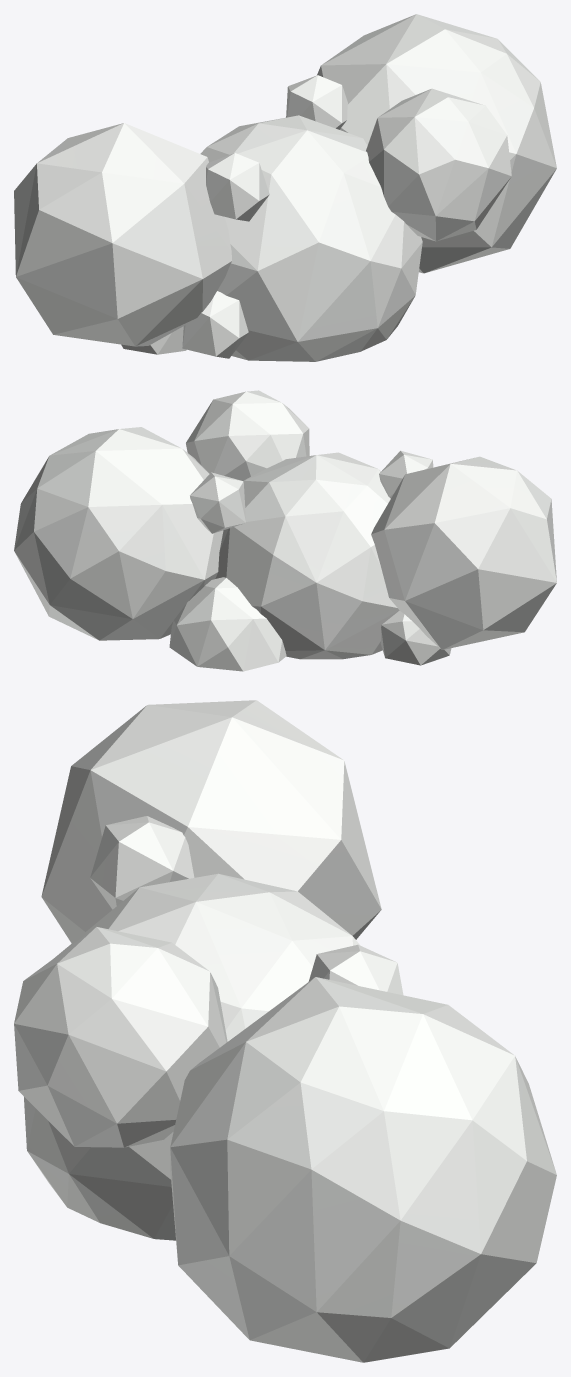
File: cloud4.glb
3 renders of one model, top to bottom at view 1: azimuth 30°, elevation 25°; view 2: azimuth 150°, elevation 25°; view 3: azimuth 270°, elevation 25°, orthographic. The views are drawn at different scales.
Parts seen in each view (by area): view 1: Sphere.053; view 2: Sphere.053; view 3: Sphere.053.
Part boxes in pixels (box(x1,y1,x2,y2)): Sphere.053: box(14, 14, 556, 361); Sphere.053: box(14, 390, 556, 671); Sphere.053: box(14, 700, 556, 1362).
Size of what is drawn, in the model's own units: 4.89 by 1.86 by 2.7.
1 material, 1 textured.
